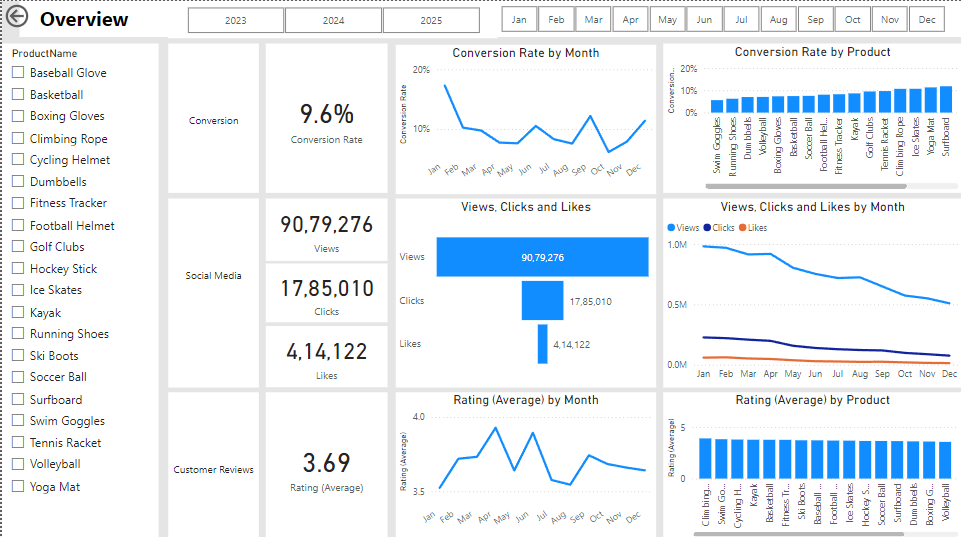

What the dashboard file says about the page in this screenshot:
{"tool":"powerbi","page":{"name":"Overview","canvas":[1280,720],"ordinal":0},"visuals":[{"type":"textbox","box":[0,0,1280.3,47.7],"z":0},{"type":"slicer","fields":{"Values":["dim_products.ProductName"]},"box":[0,57.5,209.1,662.8],"z":1000},{"type":"textbox","box":[221.3,57.5,121.1,199.3],"z":2000},{"type":"textbox","box":[221.3,262.9,121.1,251.9],"z":3000},{"type":"textbox","box":[221.3,520.9,121.1,199.3],"z":4000},{"type":"card","fields":{"Values":["Calculations.Conversion Rate"]},"box":[352.2,57.5,162.6,199.3],"z":5000},{"type":"card","fields":{"Values":["Calculations.Views"]},"box":[352.2,262.9,162.6,83.2],"z":6000},{"type":"card","fields":{"Values":["Calculations.Clicks"]},"box":[352.2,349.7,162.6,78.3],"z":7000},{"type":"card","fields":{"Values":["Calculations.Likes"]},"box":[352.2,432.9,162.6,81.9],"z":8000},{"type":"card","fields":{"Values":["Calculations.Rating (Average)"]},"box":[352.2,520.9,162.6,199.3],"z":9000},{"type":"actionButton","box":[0,0,100,40],"z":10000},{"type":"slicer","fields":{"Values":["Calendar.Year"]},"box":[221.3,1.2,439,47.7],"z":11000},{"type":"slicer","fields":{"Values":["Calendar.MonthNameShort"]},"box":[639.5,0,640.8,47.7],"z":12000},{"type":"lineChart","title":"Conversion Rate by Month","fields":{"Y":["Calculations.Conversion Rate"],"Category":["Calendar.MonthNameShort"]},"box":[524.6,58.7,347.3,199.3],"z":13000},{"type":"clusteredColumnChart","title":"Conversion Rate by Product","fields":{"Y":["Calculations.Conversion Rate"],"Category":["dim_products.ProductName"]},"box":[881.7,57.5,398.6,199.3],"z":14000},{"type":"lineChart","title":"Views, Clicks and Likes by Month","fields":{"Category":["Calendar.MonthNameShort"],"Y":["Calculations.Views","Calculations.Clicks","Calculations.Likes"]},"box":[881.7,262.9,398.6,251.9],"z":15000},{"type":"funnel","fields":{"Y":["Calculations.Views","Calculations.Clicks","Calculations.Likes"]},"box":[524.6,262.9,347.3,251.9],"z":16000},{"type":"lineChart","title":"Rating (Average) by Month","fields":{"Category":["Calendar.MonthNameShort"],"Y":["Calculations.Rating (Average)"]},"box":[524.6,520.9,347.3,199.3],"z":17000},{"type":"columnChart","title":"Rating (Average) by Product","fields":{"Category":["dim_products.ProductName"],"Y":["Calculations.Rating (Average)"]},"box":[881.7,520.9,398.6,199.3],"z":18000}]}

Visuals, with their boxes in screenshot pixels (x1, y1, x2, y2), scaled from the page's 1280x720 canvas onto the 961x537 screenshot:
textbox: 0 0 960 36
slicer - dim_products.ProductName: 0 43 157 536
textbox: 166 43 257 192
textbox: 166 196 257 384
textbox: 166 389 257 536
card - Calculations.Conversion Rate: 264 43 387 192
card - Calculations.Views: 264 196 387 258
card - Calculations.Clicks: 264 261 387 319
card - Calculations.Likes: 264 323 387 384
card - Calculations.Rating (Average): 264 389 387 536
actionButton: 0 0 75 30
slicer - Calendar.Year: 166 1 496 36
slicer - Calendar.MonthNameShort: 480 0 960 36
"Conversion Rate by Month" lineChart: 394 44 655 192
"Conversion Rate by Product" clusteredColumnChart: 662 43 960 192
"Views, Clicks and Likes by Month" lineChart: 662 196 960 384
funnel - Calculations.Views x Calculations.Clicks: 394 196 655 384
"Rating (Average) by Month" lineChart: 394 389 655 536
"Rating (Average) by Product" columnChart: 662 389 960 536
